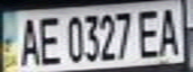0: (63, 11, 84, 64)
2: (97, 10, 118, 62)
3: (81, 11, 103, 63)
7: (115, 8, 136, 61)
A: (12, 14, 42, 68), (154, 3, 184, 56)
E: (33, 12, 63, 66), (136, 6, 163, 60)
